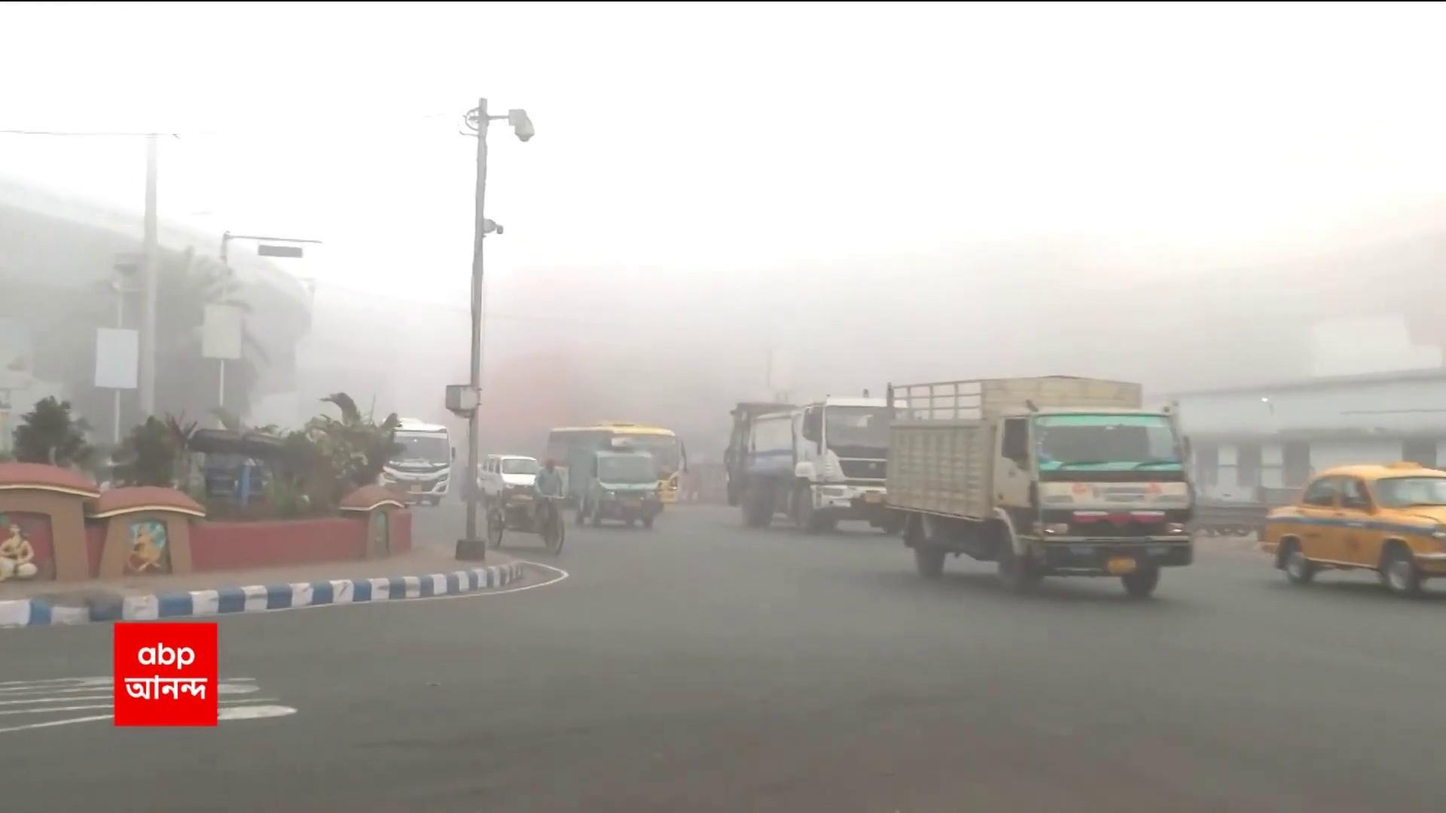Bus: (550, 420, 693, 508)
Car: (1256, 463, 1446, 595)
Truck: (879, 375, 1202, 603), (724, 394, 909, 529), (567, 439, 660, 527)
